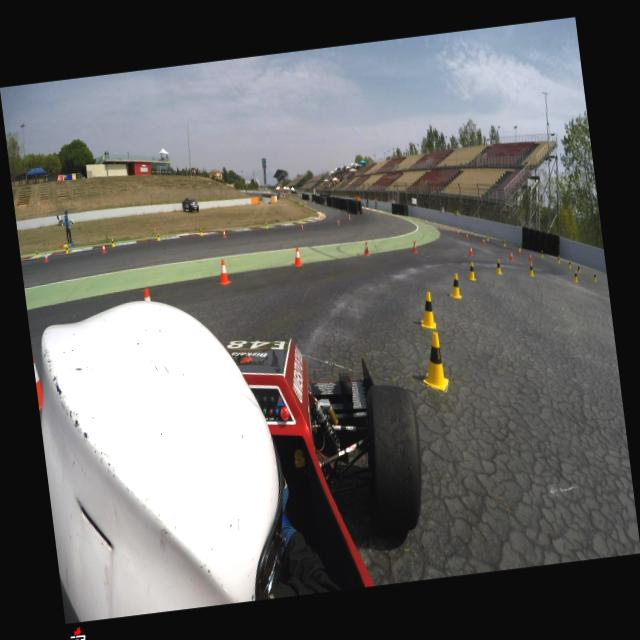orange_cone: (32, 354, 45, 410), (215, 258, 231, 285), (292, 246, 302, 266), (361, 240, 369, 256), (142, 288, 150, 302), (100, 243, 106, 254), (508, 250, 514, 261), (411, 240, 416, 253), (526, 252, 532, 262), (467, 244, 472, 256), (44, 252, 50, 262), (516, 247, 521, 256), (222, 229, 226, 238), (156, 232, 160, 240), (464, 232, 468, 240), (300, 222, 304, 230), (455, 228, 459, 235), (480, 238, 484, 245), (336, 218, 340, 225), (347, 213, 350, 220), (302, 218, 305, 224), (451, 226, 454, 232), (356, 210, 359, 215), (154, 224, 156, 230), (444, 223, 446, 228)
yellow_cone: (416, 331, 450, 394), (416, 291, 437, 331), (446, 272, 462, 300), (465, 260, 476, 282), (492, 258, 502, 274), (526, 262, 534, 277), (100, 242, 106, 255), (572, 270, 578, 282), (591, 272, 597, 282), (64, 244, 70, 253), (538, 249, 544, 258), (566, 259, 572, 268), (555, 254, 560, 264), (575, 264, 581, 272), (35, 249, 40, 258), (110, 238, 114, 247), (198, 228, 203, 235), (517, 242, 521, 250), (264, 221, 268, 229), (156, 232, 160, 240), (502, 239, 506, 246), (485, 234, 489, 240), (472, 230, 476, 235), (302, 218, 305, 224)
